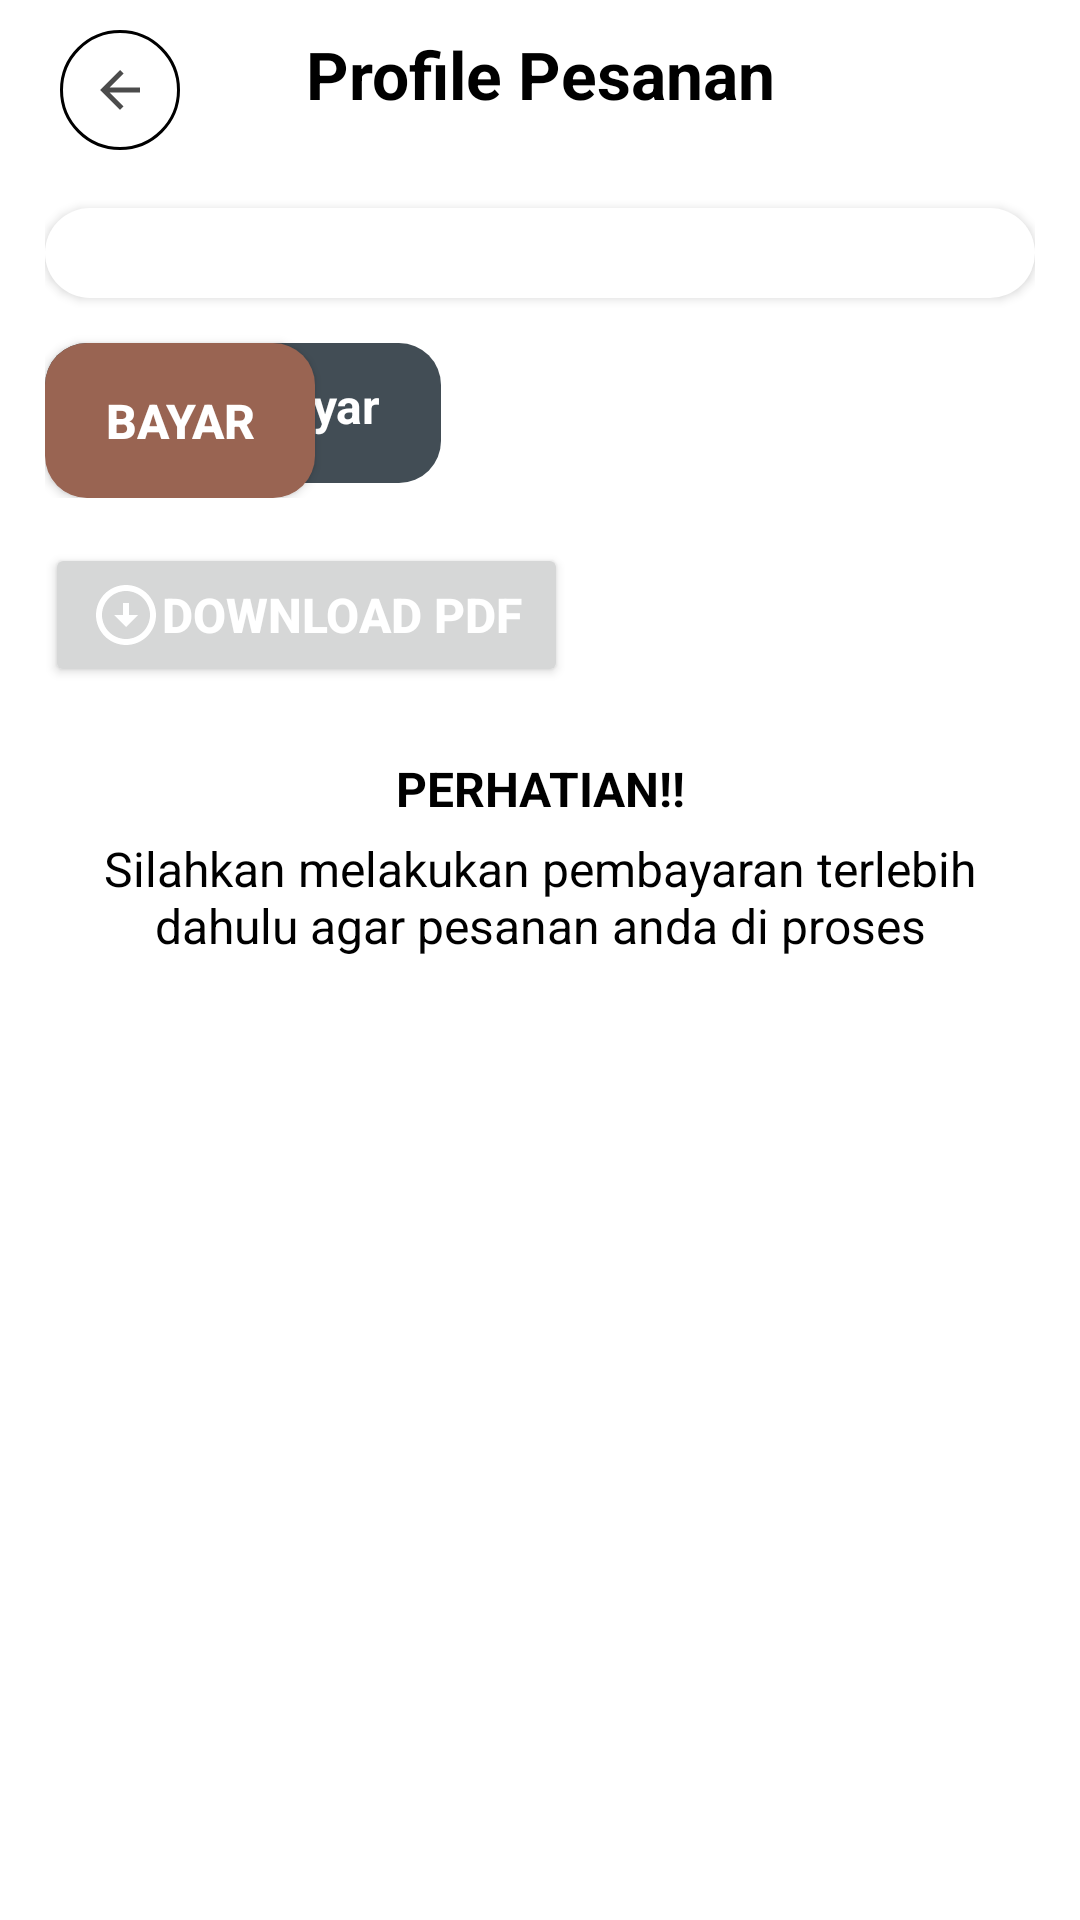

Named icons in this screenshot (1080w x 1920h) and their centers, (x,y):
arrow back: (120,90)
